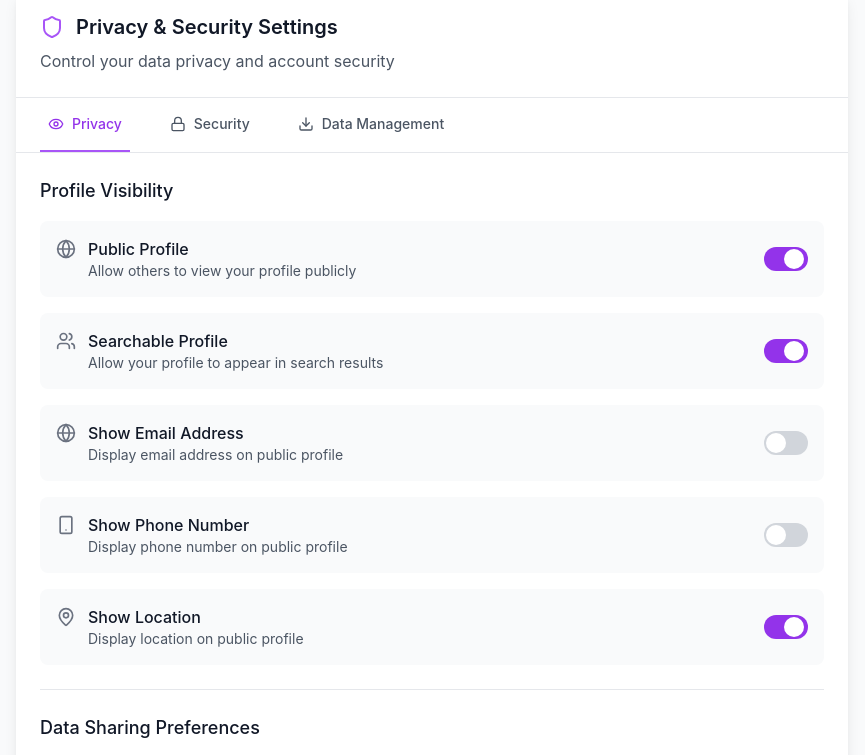
Test: PrivacySettings › Security tab › shows Two-Factor Authentication section when Security tab is clicked
Click the button "Security".
click(210, 125)  # box [162,98,258,152]
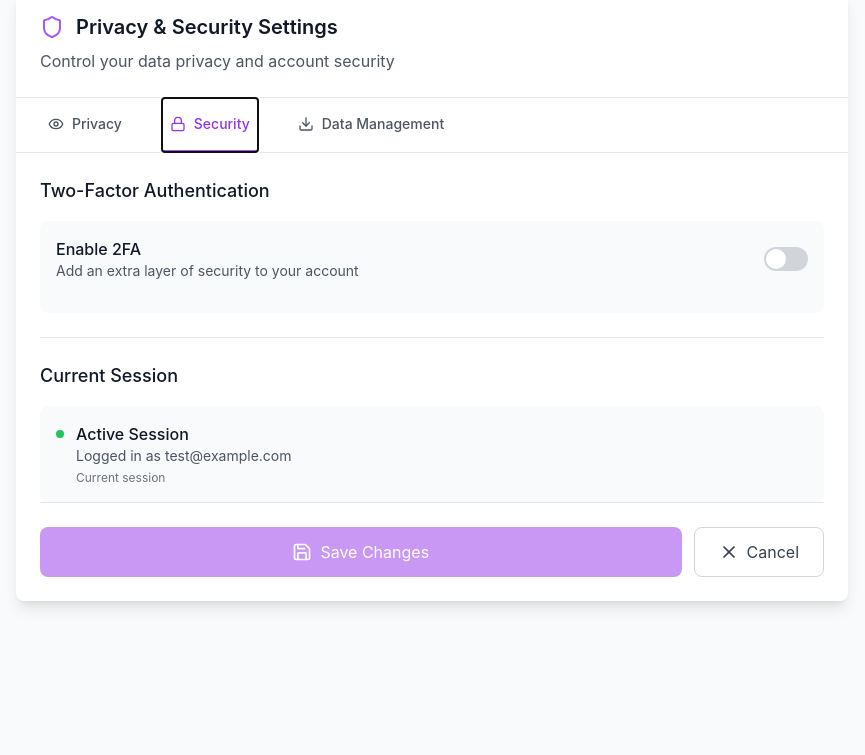
Check: the heading "Two-Factor Authentication" is shown, box [40,180,270,201]
Check: the heading "Enable 2FA" is shown, box [56,239,141,259]
